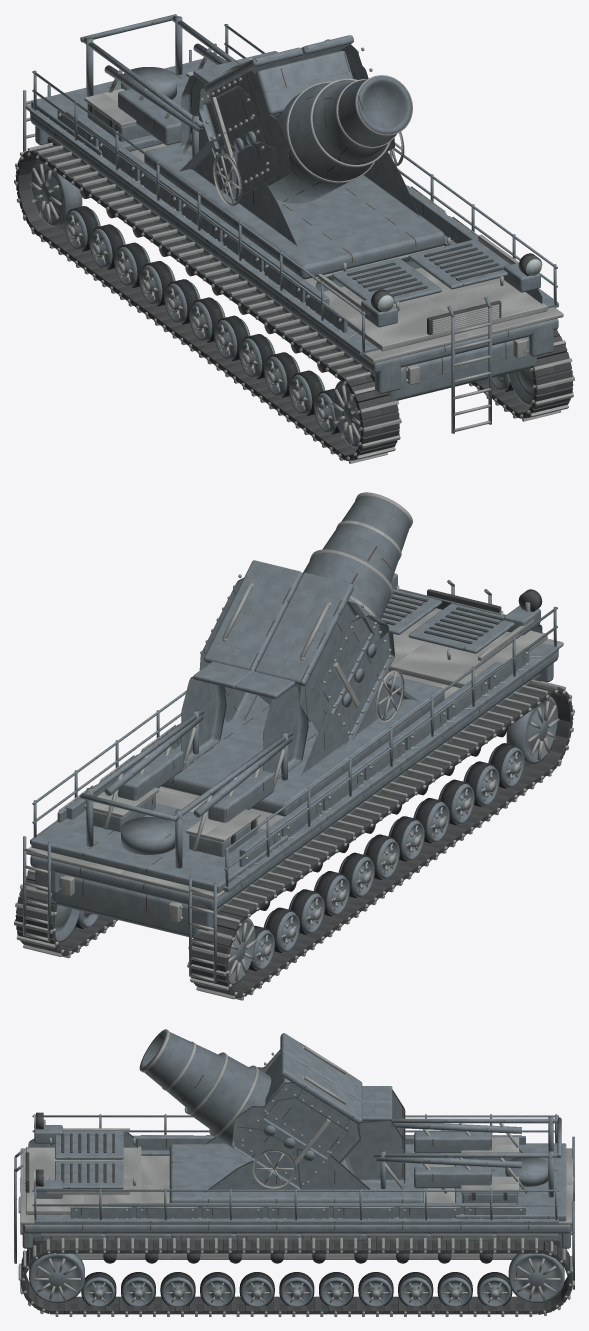
File: pgf-inspection.glb
The picture shows the model from 3 angles, top to bottom: view 1: azimuth 30°, elevation 25°; view 2: azimuth 150°, elevation 25°; view 3: azimuth 270°, elevation 25°; orthographic projection. The views are drawn at different scales.
Parts seen in each view (by area): view 1: carriage-graphite-painted-steel-batch, running-gear-panel-shadow-batch, chassis-graphite-painted-steel-batch, platform-graphite-painted-steel-batch, cradle-graphite-painted-steel-batch, running-gear-cast-edge-steel-batch, barrel-tube-exterior-batch, running-gear-graphite-painted-steel-batch, engine-cast-edge-steel-batch, mechanisms-graphite-painted-steel-batch, engine-graphite-painted-steel-batch, running-gear-dark-running-bands-batch (+6 smaller); view 2: platform-graphite-painted-steel-batch, cradle-graphite-painted-steel-batch, running-gear-panel-shadow-batch, chassis-graphite-painted-steel-batch, mechanisms-graphite-painted-steel-batch, running-gear-cast-edge-steel-batch, carriage-graphite-painted-steel-batch, running-gear-graphite-painted-steel-batch, barrel-tube-exterior-batch, engine-graphite-painted-steel-batch, engine-cast-edge-steel-batch, running-gear-dark-running-bands-batch (+6 smaller); view 3: chassis-graphite-painted-steel-batch, running-gear-panel-shadow-batch, platform-graphite-painted-steel-batch, running-gear-graphite-painted-steel-batch, mechanisms-graphite-painted-steel-batch, cradle-graphite-painted-steel-batch, carriage-graphite-painted-steel-batch, chassis-cast-edge-steel-batch, barrel-tube-exterior-batch, running-gear-cast-edge-steel-batch, engine-graphite-painted-steel-batch, engine-cast-edge-steel-batch (+7 smaller).
Boxes of the visible parts, x1=… form: carriage-graphite-painted-steel-batch: x1=144, y1=138, x2=444, y2=279; running-gear-panel-shadow-batch: x1=15, y1=145, x2=573, y2=460; chassis-graphite-painted-steel-batch: x1=30, y1=109, x2=558, y2=400; platform-graphite-painted-steel-batch: x1=23, y1=24, x2=558, y2=355; cradle-graphite-painted-steel-batch: x1=199, y1=35, x2=394, y2=199; running-gear-cast-edge-steel-batch: x1=14, y1=142, x2=574, y2=463; barrel-tube-exterior-batch: x1=268, y1=76, x2=412, y2=203; running-gear-graphite-painted-steel-batch: x1=31, y1=159, x2=534, y2=448; engine-cast-edge-steel-batch: x1=318, y1=234, x2=547, y2=431; mechanisms-graphite-painted-steel-batch: x1=80, y1=14, x2=277, y2=157; engine-graphite-painted-steel-batch: x1=315, y1=239, x2=542, y2=433; running-gear-dark-running-bands-batch: x1=68, y1=206, x2=513, y2=434; platform-graphite-painted-steel-batch: x1=23, y1=606, x2=558, y2=982; cradle-graphite-painted-steel-batch: x1=199, y1=560, x2=394, y2=744; running-gear-panel-shadow-batch: x1=15, y1=683, x2=573, y2=998; chassis-graphite-painted-steel-batch: x1=30, y1=648, x2=558, y2=937; mechanisms-graphite-painted-steel-batch: x1=80, y1=661, x2=308, y2=868; running-gear-cast-edge-steel-batch: x1=14, y1=680, x2=574, y2=1000; carriage-graphite-painted-steel-batch: x1=161, y1=675, x2=444, y2=816; running-gear-graphite-painted-steel-batch: x1=54, y1=696, x2=557, y2=985; barrel-tube-exterior-batch: x1=257, y1=495, x2=410, y2=722; engine-graphite-painted-steel-batch: x1=381, y1=573, x2=542, y2=653; engine-cast-edge-steel-batch: x1=388, y1=585, x2=547, y2=687; running-gear-dark-running-bands-batch: x1=75, y1=743, x2=520, y2=971; chassis-graphite-painted-steel-batch: x1=22, y1=1135, x2=570, y2=1249; running-gear-panel-shadow-batch: x1=20, y1=1240, x2=572, y2=1314; platform-graphite-painted-steel-batch: x1=32, y1=1114, x2=574, y2=1289; running-gear-graphite-painted-steel-batch: x1=29, y1=1253, x2=564, y2=1306; mechanisms-graphite-painted-steel-batch: x1=345, y1=1086, x2=561, y2=1197; cradle-graphite-painted-steel-batch: x1=232, y1=1033, x2=362, y2=1189; carriage-graphite-painted-steel-batch: x1=169, y1=1137, x2=423, y2=1202; chassis-cast-edge-steel-batch: x1=20, y1=1135, x2=574, y2=1259; barrel-tube-exterior-batch: x1=140, y1=1029, x2=271, y2=1159; running-gear-cast-edge-steel-batch: x1=18, y1=1196, x2=574, y2=1316; engine-graphite-painted-steel-batch: x1=14, y1=1119, x2=137, y2=1263; engine-cast-edge-steel-batch: x1=14, y1=1128, x2=141, y2=1261.
Bounding box in the file's own units: 3.69 × 5.09 × 10.6.
Materials: 6 (6 with a texture image).
